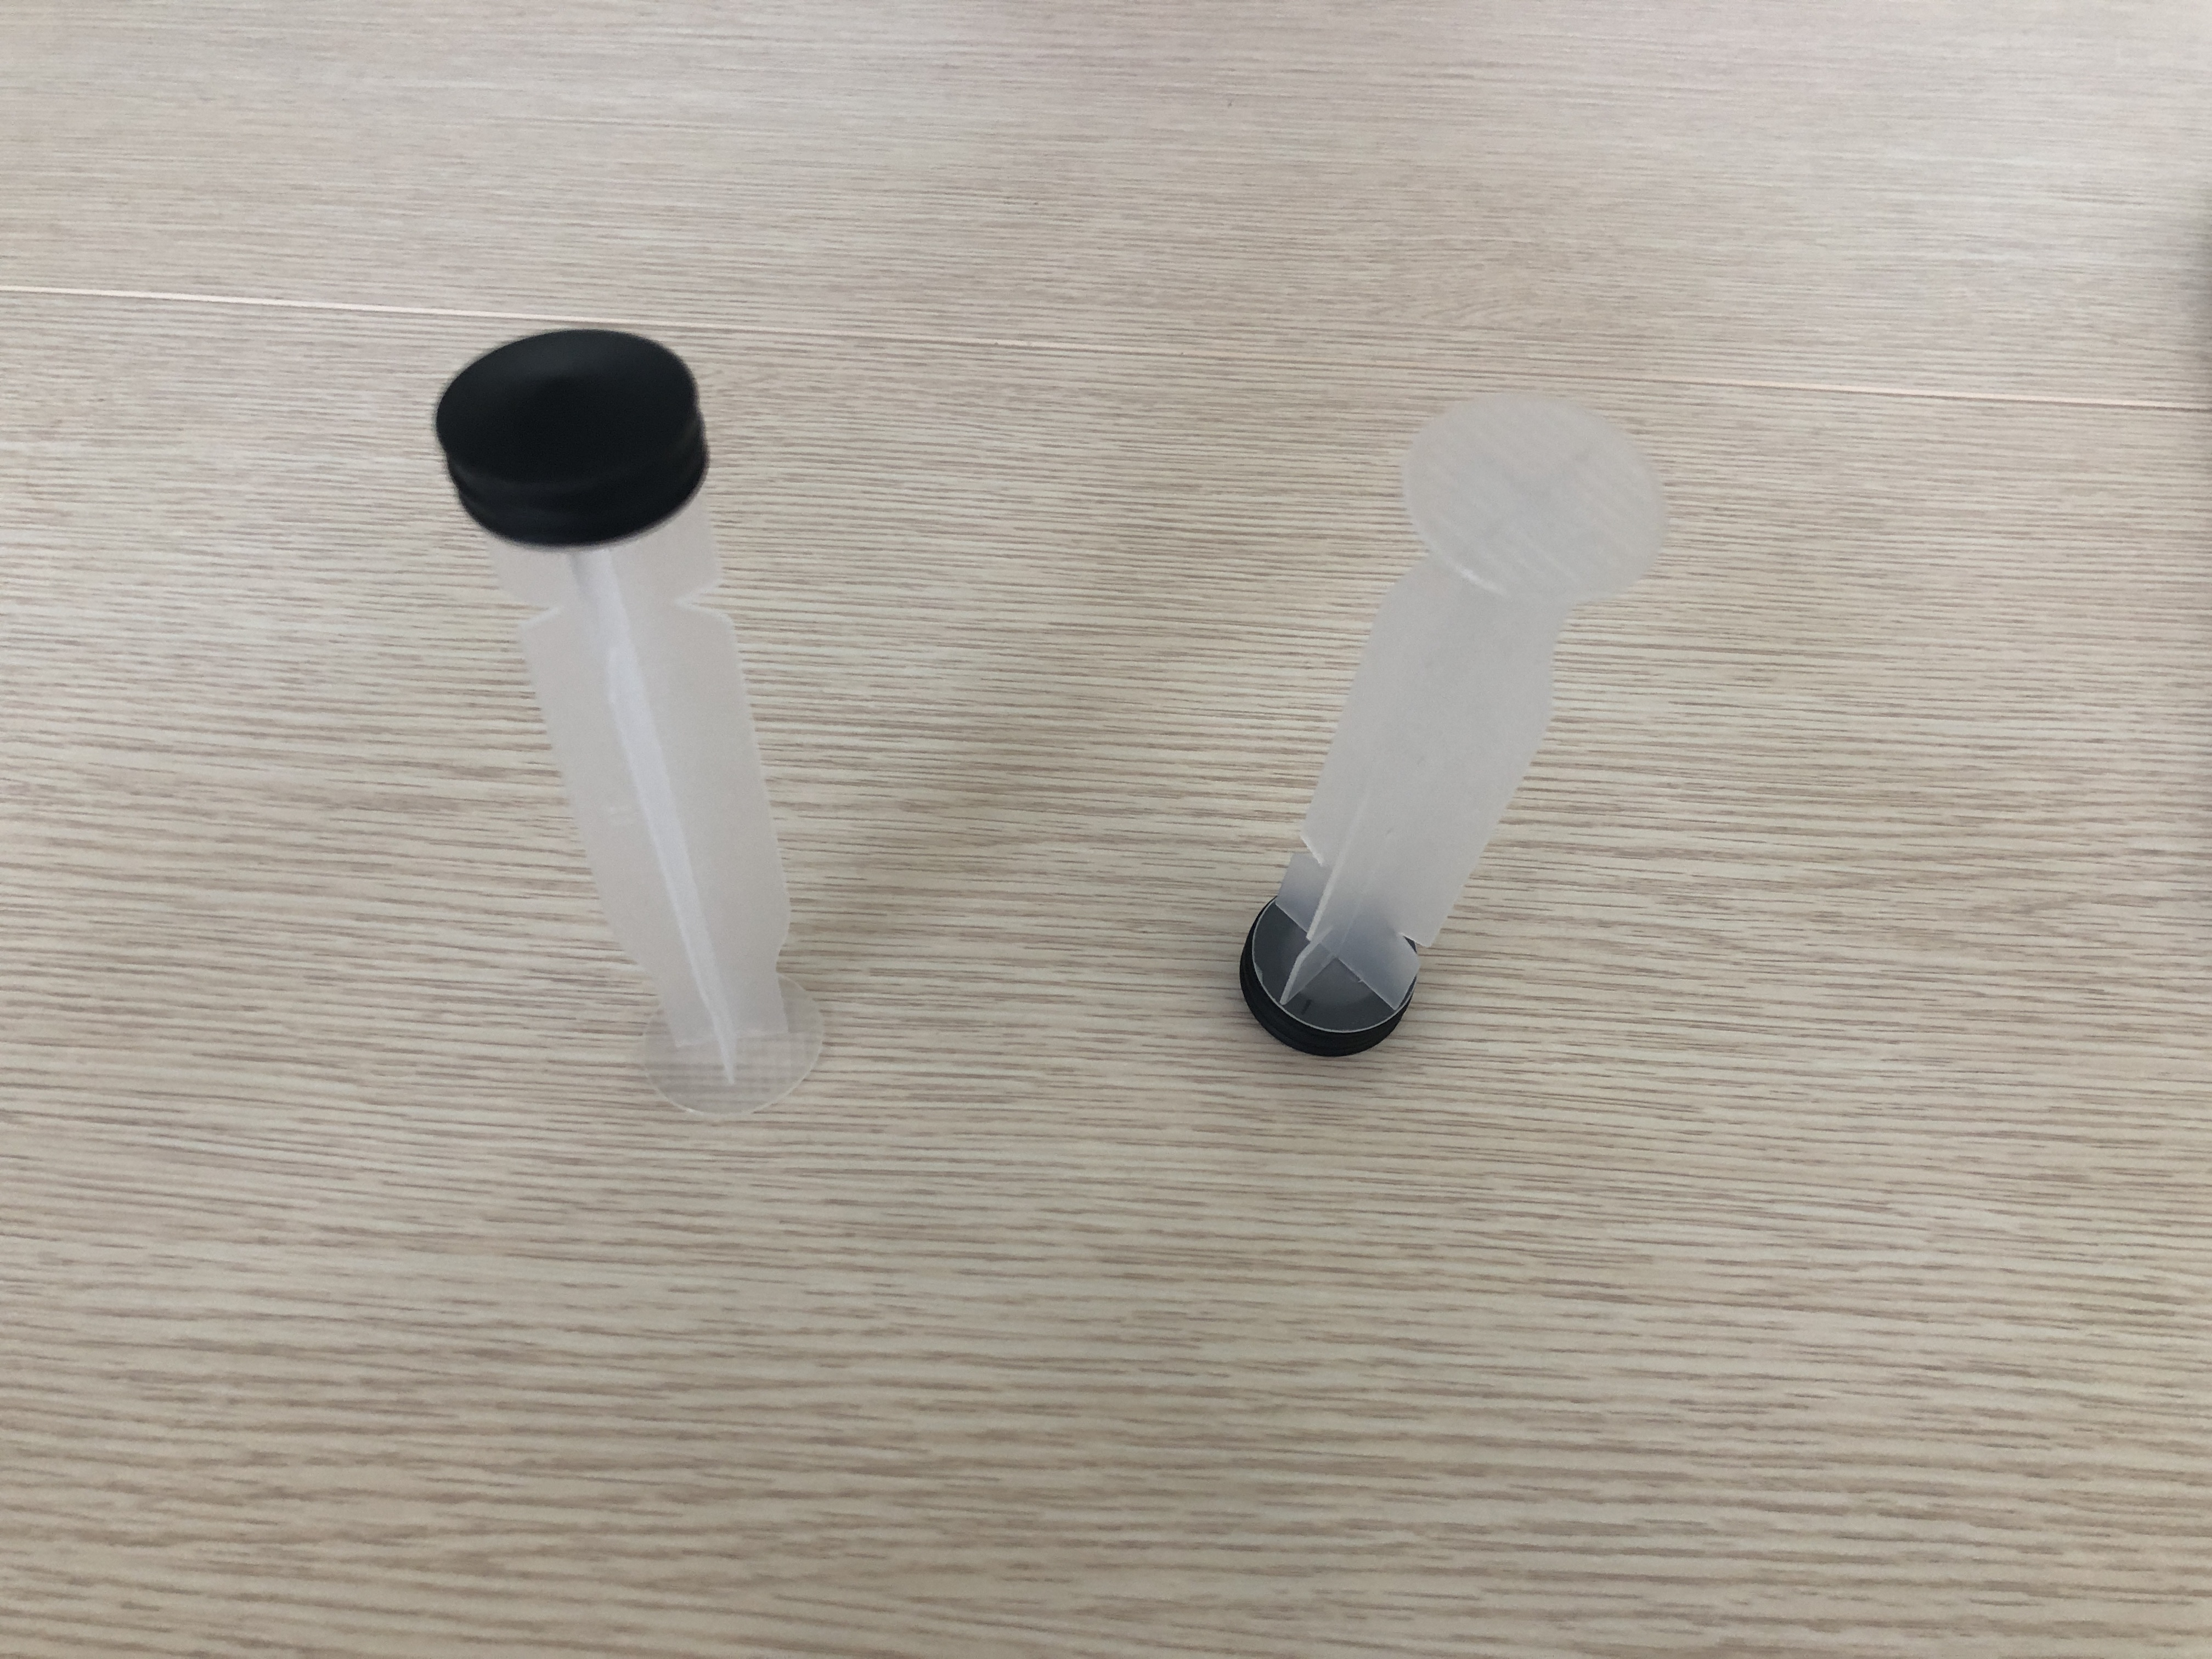plunger: (427, 321, 846, 1115), (1233, 387, 1677, 1065)
